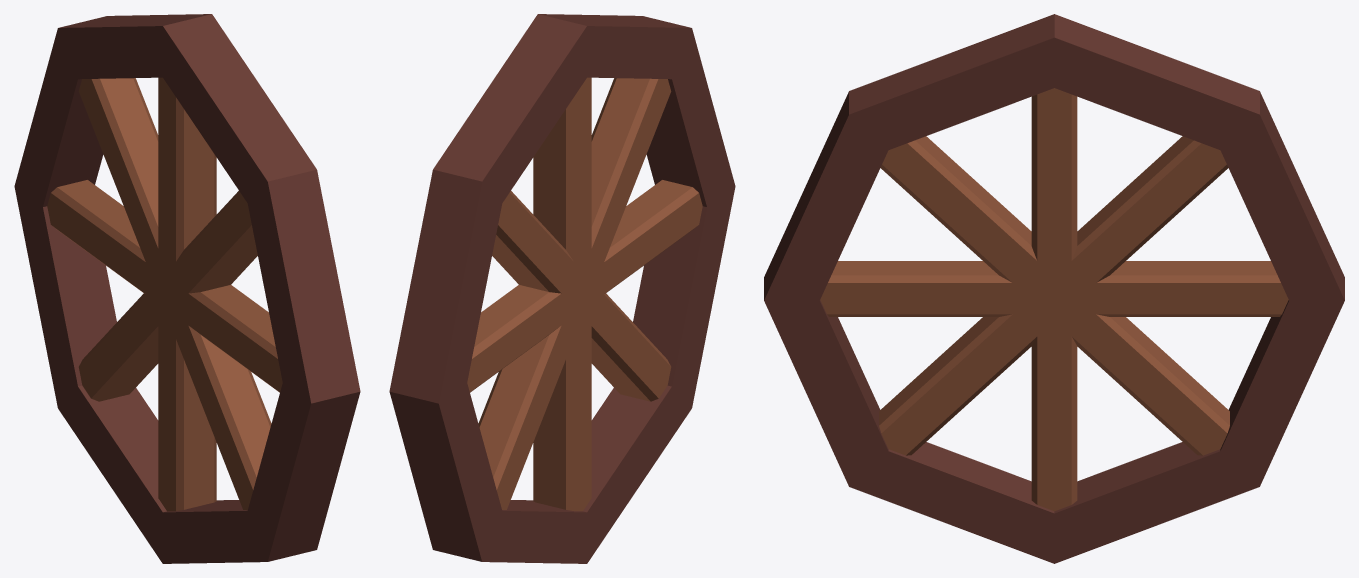
The model's file is Wheel.fbx.
3 renders of one model, left to right at view 1: azimuth 30°, elevation 25°; view 2: azimuth 150°, elevation 25°; view 3: azimuth 270°, elevation 25°, orthographic. The views are drawn at different scales.
Parts seen in each view (by area): view 1: Wheel; view 2: Wheel; view 3: Wheel.
Boxes of the visible parts, box(x1,y1,x2,y2) form: Wheel: box(14, 14, 360, 563); Wheel: box(389, 14, 735, 563); Wheel: box(764, 14, 1344, 563).
Size of the model in its own units: 0.0339 by 0.3539 by 0.3539.
